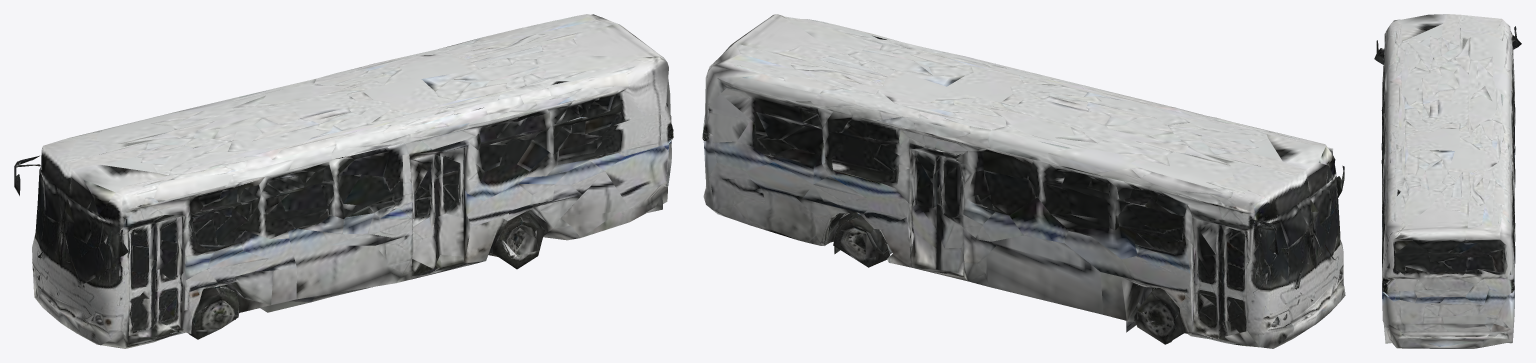
The model's file is bus.glb.
The picture shows the model from 3 angles, left to right: view 1: azimuth 30°, elevation 25°; view 2: azimuth 150°, elevation 25°; view 3: azimuth 270°, elevation 25°; orthographic projection. The views are drawn at different scales.
Bounding box in the file's own units: 1.9 × 0.5389 × 0.5282.
1 material, 1 textured.
